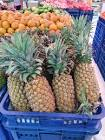Pineapple: (18, 34, 56, 113), (72, 24, 100, 108), (48, 40, 77, 112)
